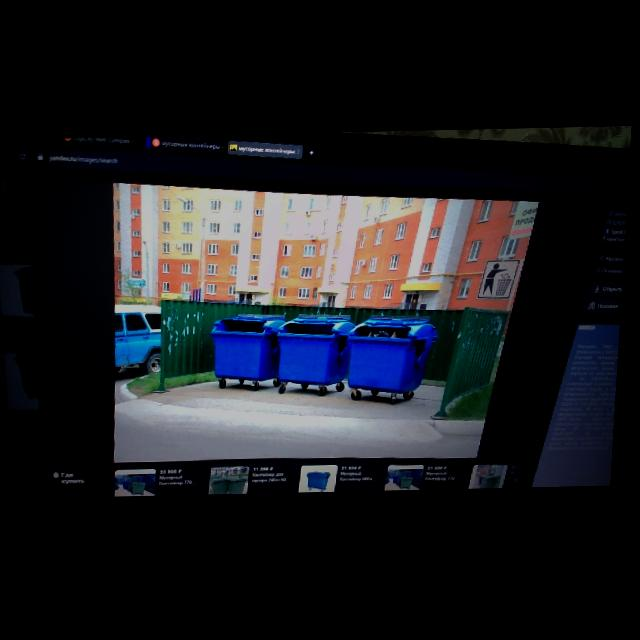Trash_Can_Empty: (279, 324, 360, 388), (212, 319, 291, 383)
Trash_Can_Full: (350, 326, 443, 396)
